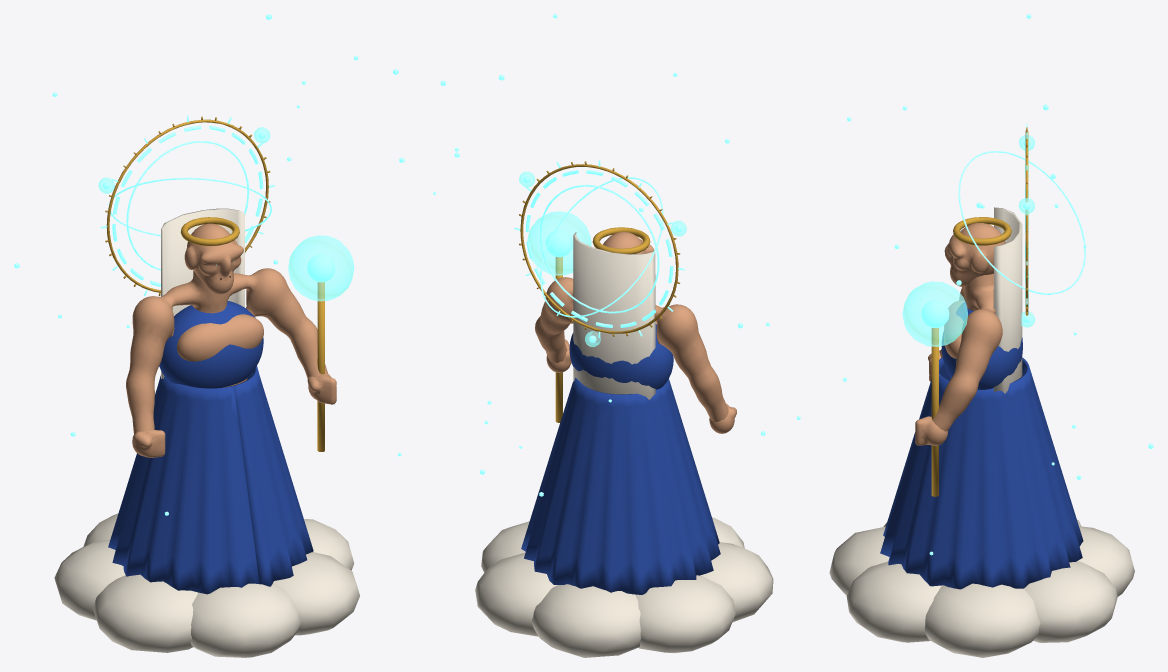
Rendered from frigg.glb.
3 renders of one model, left to right at view 1: azimuth 30°, elevation 25°; view 2: azimuth 150°, elevation 25°; view 3: azimuth 270°, elevation 25°, orthographic. The views are drawn at different scales.
Parts seen in each view (by area): view 1: lapis, white, skin, ether_veil, ether, gold; view 2: lapis, white, skin, ether, ether_veil, gold; view 3: lapis, white, skin, ether_veil, gold, ether.
Boxes of the visible parts, <box> form: lapis: <box>108,301,313,594</box>; white: <box>54,208,359,657</box>; skin: <box>126,223,336,457</box>; ether_veil: <box>98,127,354,301</box>; ether: <box>14,14,404,515</box>; gold: <box>105,116,324,451</box>; lapis: <box>521,324,720,594</box>; white: <box>475,232,773,657</box>; skin: <box>535,232,736,433</box>; ether: <box>433,14,800,496</box>; ether_veil: <box>519,171,686,347</box>; gold: <box>519,161,679,422</box>; lapis: <box>880,301,1083,589</box>; white: <box>829,207,1134,657</box>; skin: <box>915,223,1005,445</box>; ether_veil: <box>902,135,1035,346</box>; gold: <box>931,127,1028,496</box>; ether: <box>843,14,1153,555</box>.
Size of the model in its own units: 2.2 by 3.39 by 1.79.
